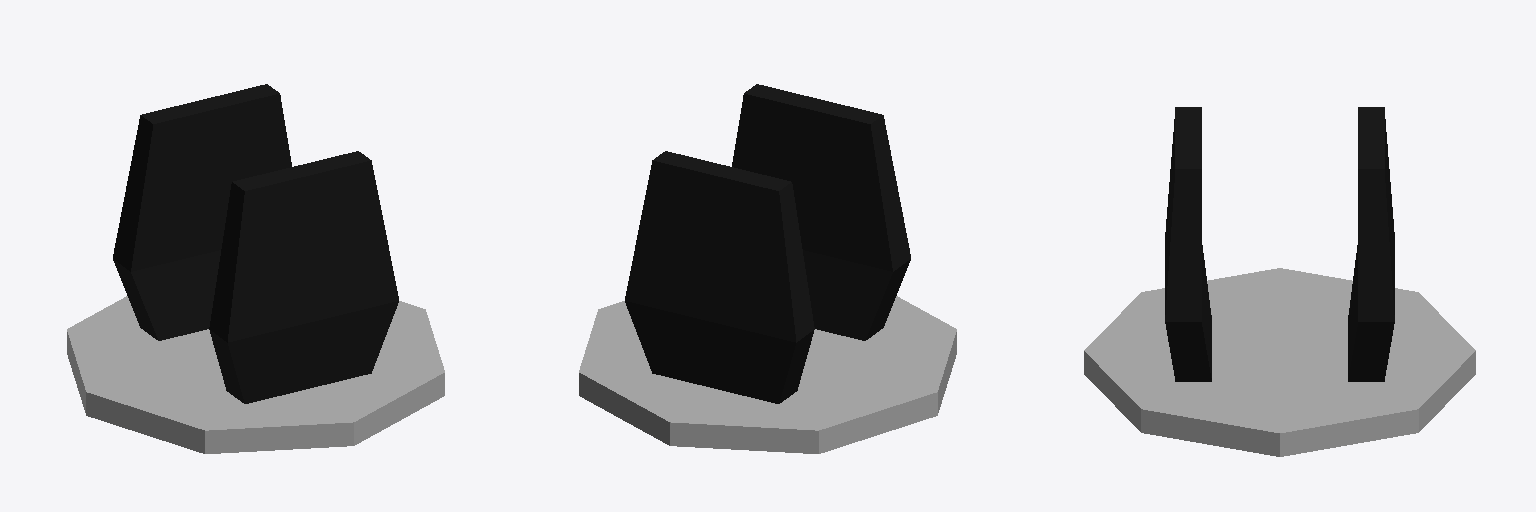
The model's file is Yaw.obj.
The picture shows the model from 3 angles: view 1: azimuth 30°, elevation 25°; view 2: azimuth 150°, elevation 25°; view 3: azimuth 270°, elevation 25°; orthographic projection.
Visible parts, largest first — view 1: Cylinder.001; view 2: Cylinder.001; view 3: Cylinder.001.
Boxes of the visible parts, x1=… form: Cylinder.001: x1=67, y1=84, x2=444, y2=453; Cylinder.001: x1=579, y1=84, x2=956, y2=453; Cylinder.001: x1=1084, y1=107, x2=1475, y2=456.
Bounding box in the file's own units: 0.75 × 0.5 × 0.75.